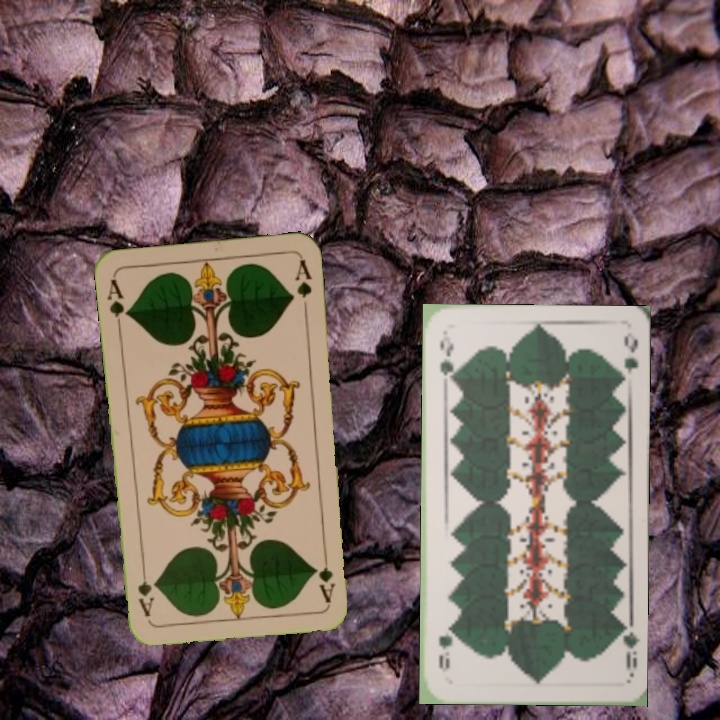G9: (612, 620, 639, 679), (436, 329, 456, 388)
GA: (103, 275, 132, 333), (317, 545, 337, 605)
